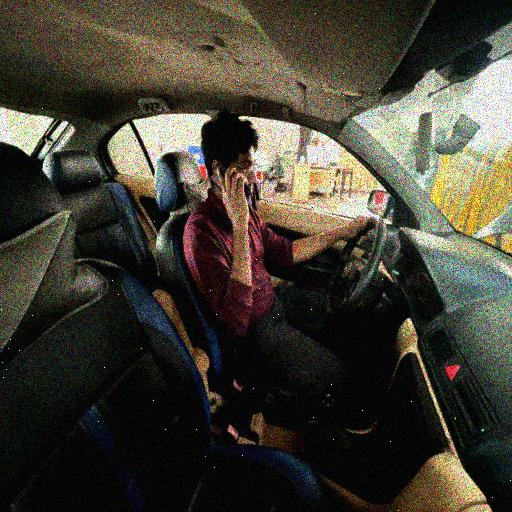Talking_on_phone: (183, 111, 372, 336)
